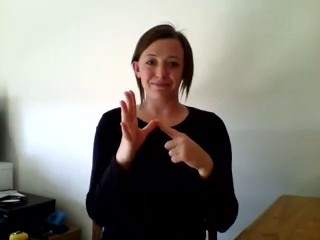A: (115, 86, 219, 173)
